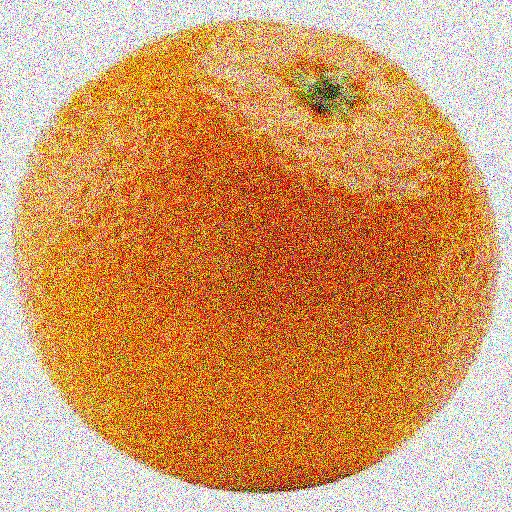fruit: (4, 130, 33, 464)
